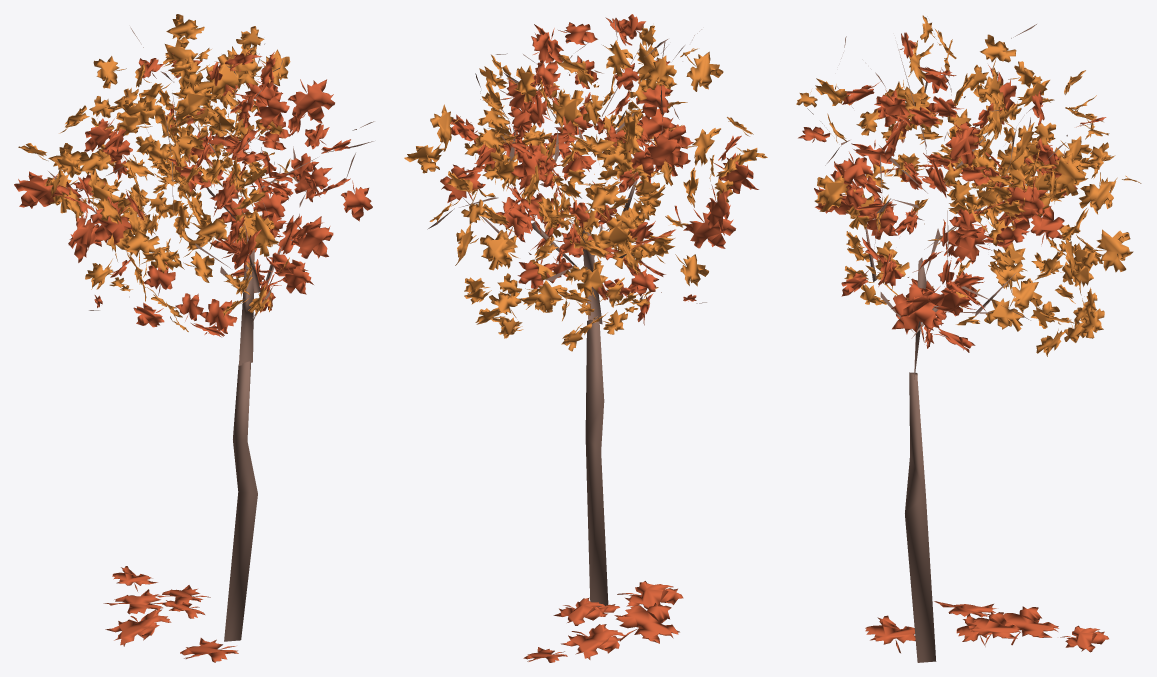
The model's file is clen3.fbx.
3 renders of one model, left to right at view 1: azimuth 30°, elevation 25°; view 2: azimuth 150°, elevation 25°; view 3: azimuth 270°, elevation 25°, orthographic. The views are drawn at different scales.
Parts seen in each view (by area): view 1: red, orange.001, orange, tree; view 2: red, orange.001, orange, tree; view 3: red, orange.001, orange, tree.
Part boxes in pixels (box(x1,y1,x2,y2)): red: box(14, 48, 372, 662); orange.001: box(59, 14, 290, 310); orange: box(18, 36, 295, 331); tree: box(48, 27, 374, 641); red: box(440, 14, 758, 662); orange.001: box(404, 54, 720, 351); orange: box(429, 25, 767, 305); tree: box(427, 19, 706, 606); red: box(798, 32, 1108, 653); orange.001: box(856, 61, 1141, 356); orange: box(796, 15, 1115, 325); tree: box(807, 24, 1093, 662).
Bounding box in the file's own units: 53.43 × 97.08 × 49.41.
